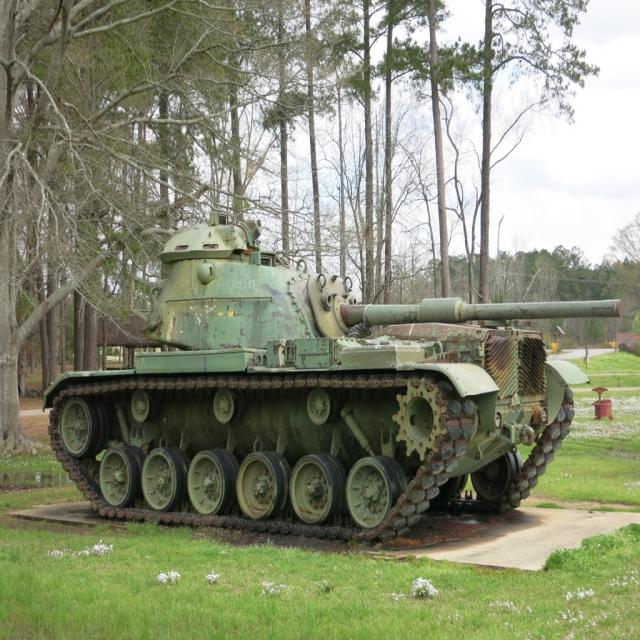tank: (39, 209, 624, 540)
